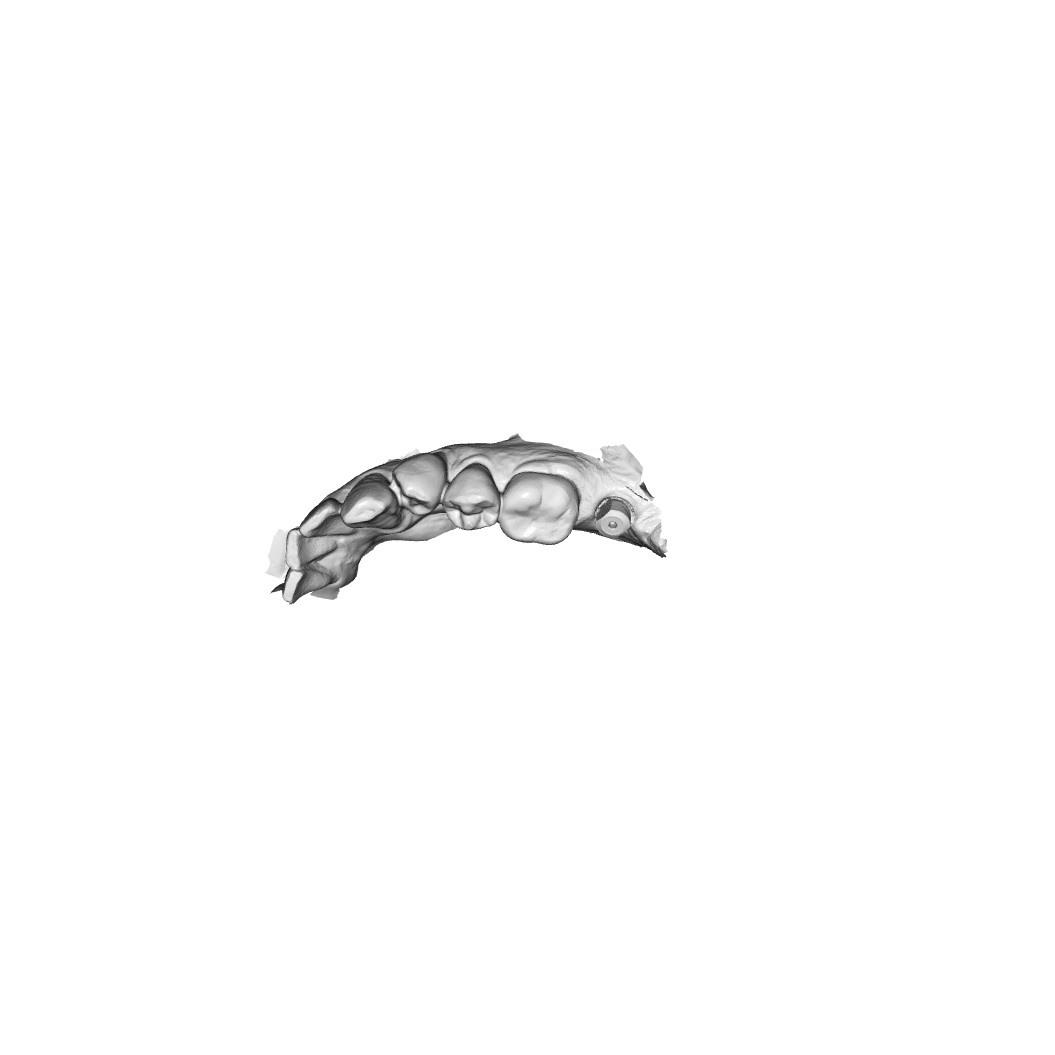canine: (342, 473, 401, 535)
implant: (593, 493, 634, 542)
incisor: (275, 563, 339, 606), (295, 494, 349, 539), (284, 528, 335, 568)
molar: (497, 470, 582, 549)
premolar: (446, 465, 500, 533), (392, 453, 446, 518)
